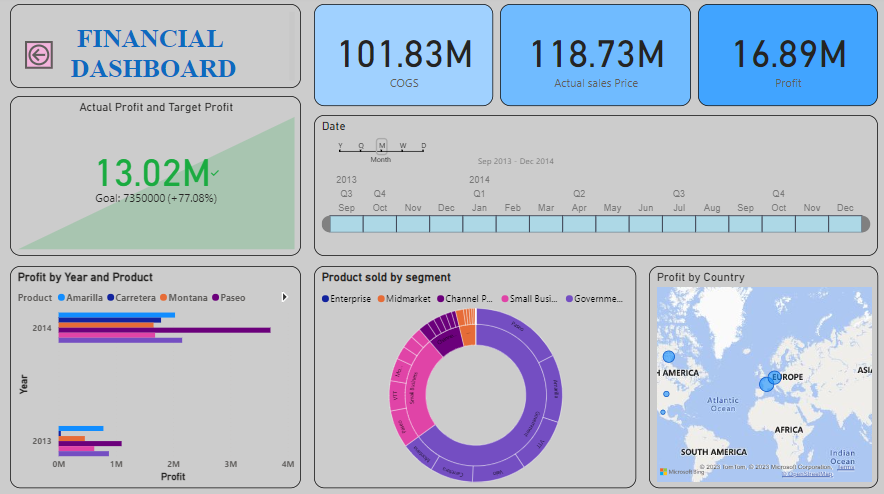

Layout of this report page (visuals, bound fields, positions):
{"tool":"powerbi","page":{"name":"Page 1","canvas":[1280,720],"ordinal":0},"visuals":[{"type":"card","fields":{"Values":["Sum(financials.COGS)"]},"box":[455,11.5,257.8,146.9],"z":0},{"type":"card","fields":{"Values":["Sum(financials. Sales)"]},"box":[722.9,11.5,275,146.9],"z":1000},{"type":"card","fields":{"Values":["Sum(financials.Profit)"]},"box":[1008,11.5,259.2,146.9],"z":2000},{"type":"textbox","box":[17.3,11.5,419,121],"z":3000},{"type":"Sunburst1445472000808","title":"Product sold by segment","fields":{"Nodes":["financials.Segment","financials.Product"],"Values":["Sum(financials.Profit)"]},"box":[455,388.8,463.7,319.7],"z":4000},{"type":"actionButton","box":[38.9,64.8,40.3,40.3],"z":5000},{"type":"clusteredBarChart","fields":{"Series":["financials.Product"],"Category":["Calendar.Date.Variation.Date Hierarchy.Year","Calendar.Date.Variation.Date Hierarchy.Quarter","Calendar.Date.Variation.Date Hierarchy.Month","Calendar.Date.Variation.Date Hierarchy.Day","Calendar.Year"],"Y":["Sum(financials.Profit)"]},"box":[17.3,388.8,419,319.7],"z":6000},{"type":"Timeline1447991079100","fields":{"Time":["financials.Date"]},"box":[455,171.4,812.2,203],"z":7000},{"type":"map","fields":{"Category":["financials.Country"],"Size":["Sum(financials.Profit)"]},"box":[937.4,388.8,329.8,319.7],"z":8000},{"type":"kpi","title":"Actual Profit and Target Profit","fields":{"Indicator":["Sum(financials.Profit)"],"Goal":["Sum(financials.Target Profit)"],"TrendLine":["Calendar.Year"]},"box":[17.3,144,419,230.4],"z":9000}]}

Visuals, with their boxes in screenshot pixels (x1, y1, x2, y2), scaled from the page's 1280x720 canvas onto the 884x494 screenshot:
card - Sum(financials.COGS): <bbox>314, 8, 492, 109</bbox>
card - Sum(financials. Sales): <bbox>499, 8, 689, 109</bbox>
card - Sum(financials.Profit): <bbox>696, 8, 875, 109</bbox>
textbox: <bbox>12, 8, 301, 91</bbox>
"Product sold by segment" Sunburst1445472000808: <bbox>314, 267, 634, 486</bbox>
actionButton: <bbox>27, 44, 55, 72</bbox>
clusteredBarChart - financials.Product x Calendar.Date.Variation.Date Hierarchy.Year: <bbox>12, 267, 301, 486</bbox>
Timeline1447991079100 - financials.Date: <bbox>314, 118, 875, 257</bbox>
map - financials.Country x Sum(financials.Profit): <bbox>647, 267, 875, 486</bbox>
"Actual Profit and Target Profit" kpi: <bbox>12, 99, 301, 257</bbox>
